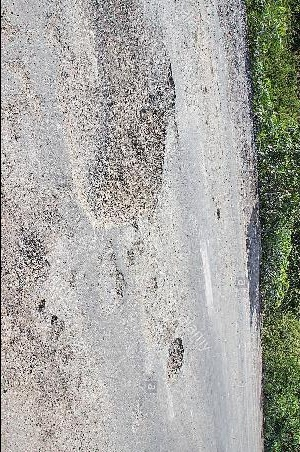pothole: (75, 59, 179, 226), (164, 335, 188, 381), (50, 310, 66, 341), (113, 266, 126, 299), (35, 295, 46, 314), (213, 205, 222, 220)
